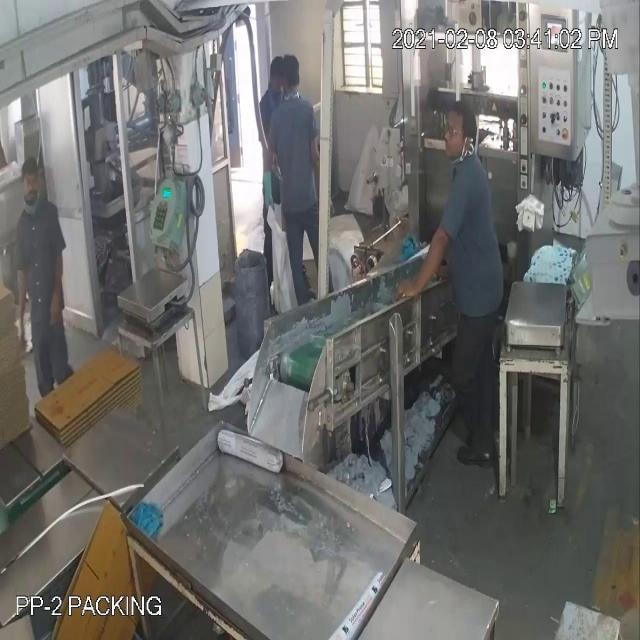No_Gloves: (22, 89, 426, 303)
